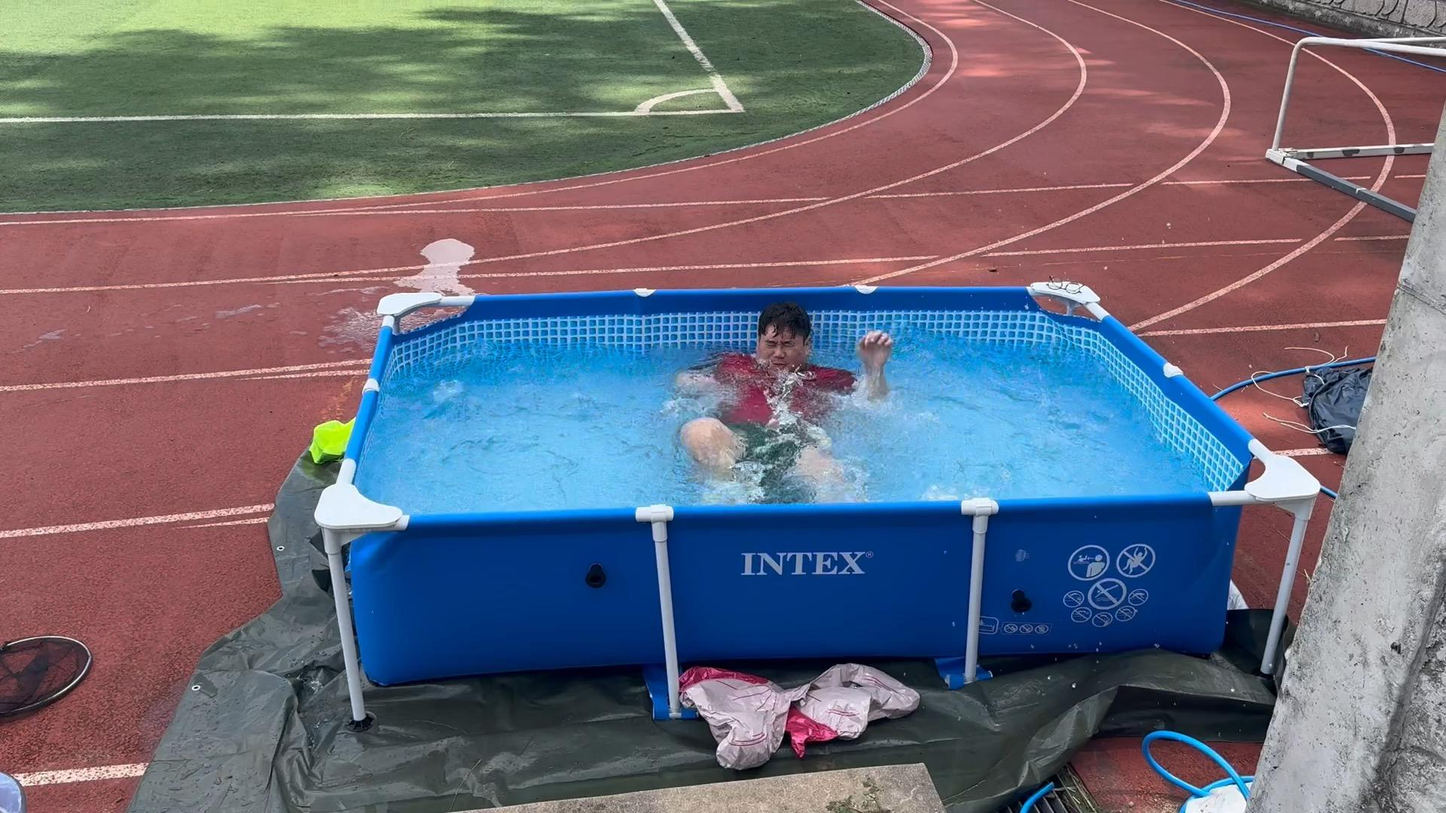Drowning: (624, 295, 942, 496)
